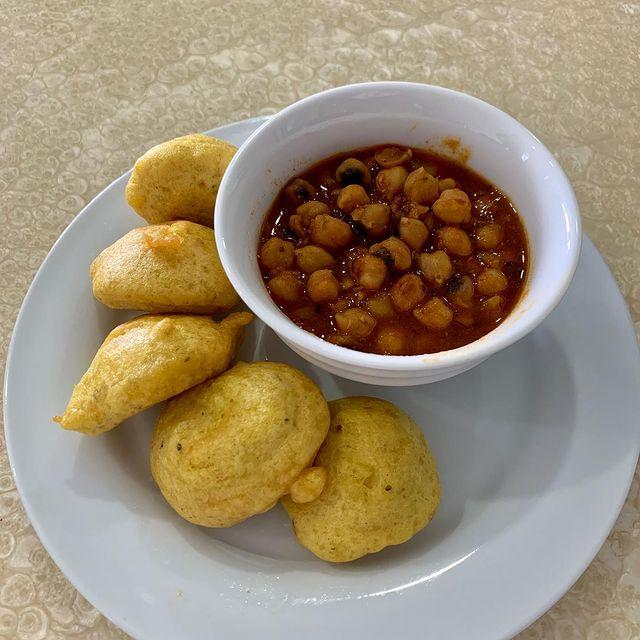Chole: (268, 136, 505, 338)
